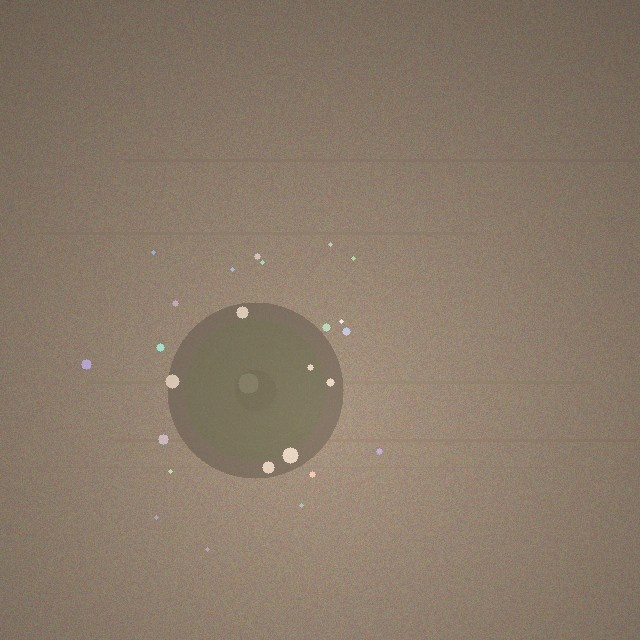overburn: (167, 302, 343, 478)
